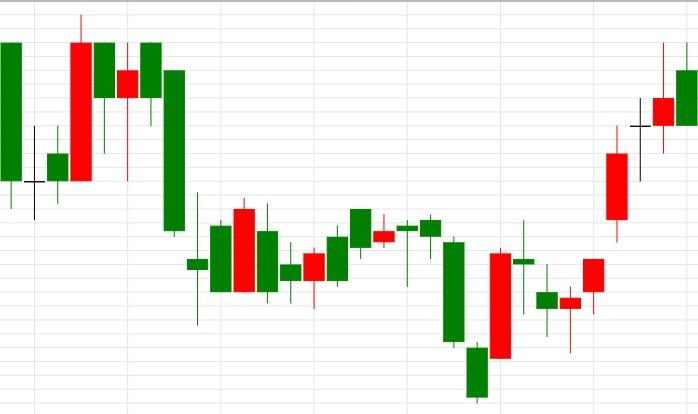bullish_engulfing_rise: (141, 42, 255, 324)
